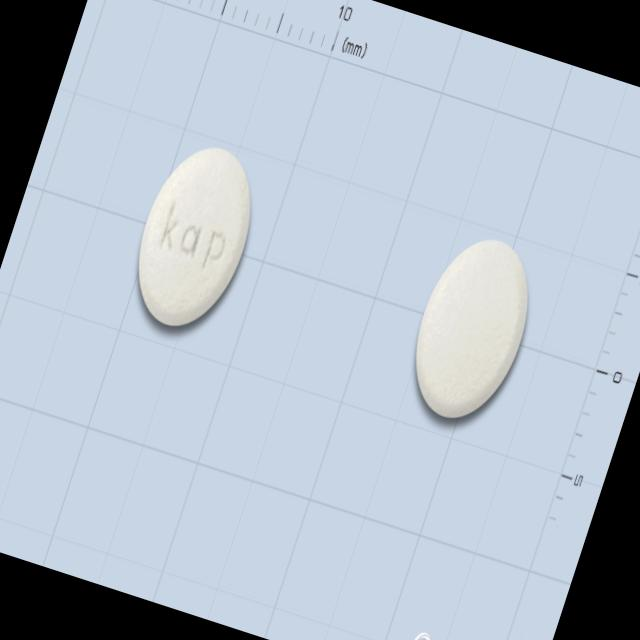Lebofacin: (116, 132, 274, 342)
